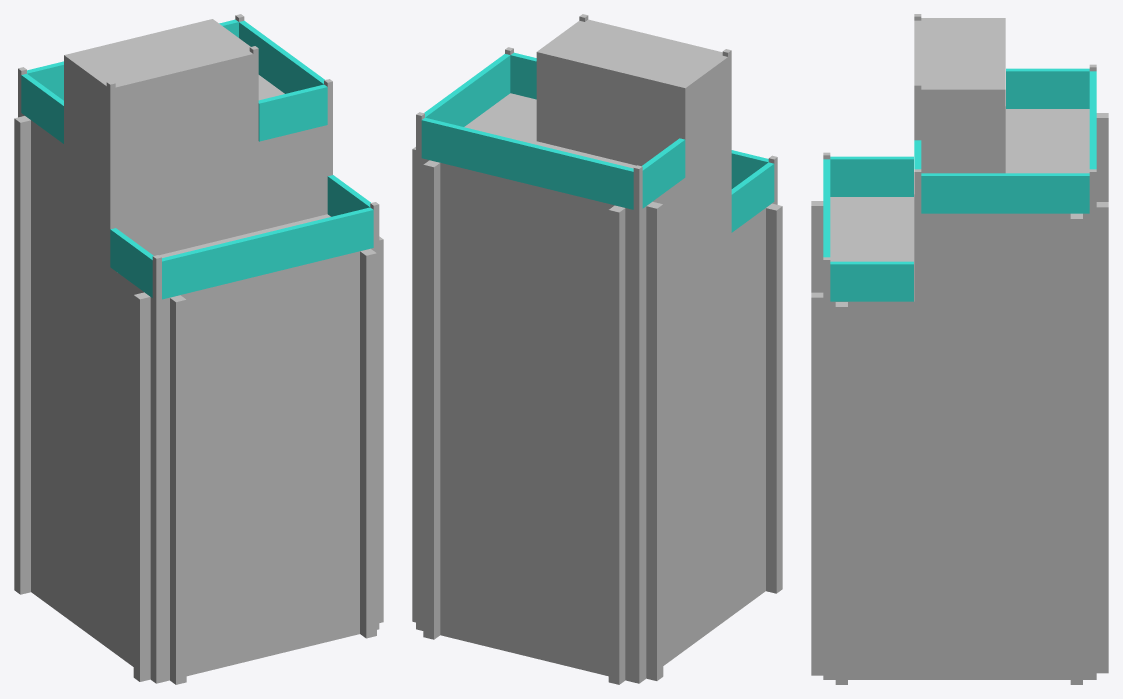
Rendered from 네온사인빌딩2.fbx.
3 views of the same model, side by side, from view 1: azimuth 30°, elevation 25°; view 2: azimuth 150°, elevation 25°; view 3: azimuth 270°, elevation 25° (orthographic).
Visible parts, largest first — view 1: Box002, Object001, 유리; view 2: Box002, Object001, 유리; view 3: Box002, Object001, 유리.
Boxes of the visible parts, box(x1,y1,x2,y2) form: Box002: box(18, 14, 379, 683); Object001: box(14, 116, 383, 684); 유리: box(21, 19, 373, 299); Box002: box(416, 14, 777, 683); Object001: box(412, 147, 782, 684); 유리: box(421, 52, 774, 232); Box002: box(823, 14, 1096, 679); Object001: box(811, 113, 1108, 684); 유리: box(823, 68, 1096, 301).
Bounding box in the file's own units: 22.94 × 50.72 × 24.5.
